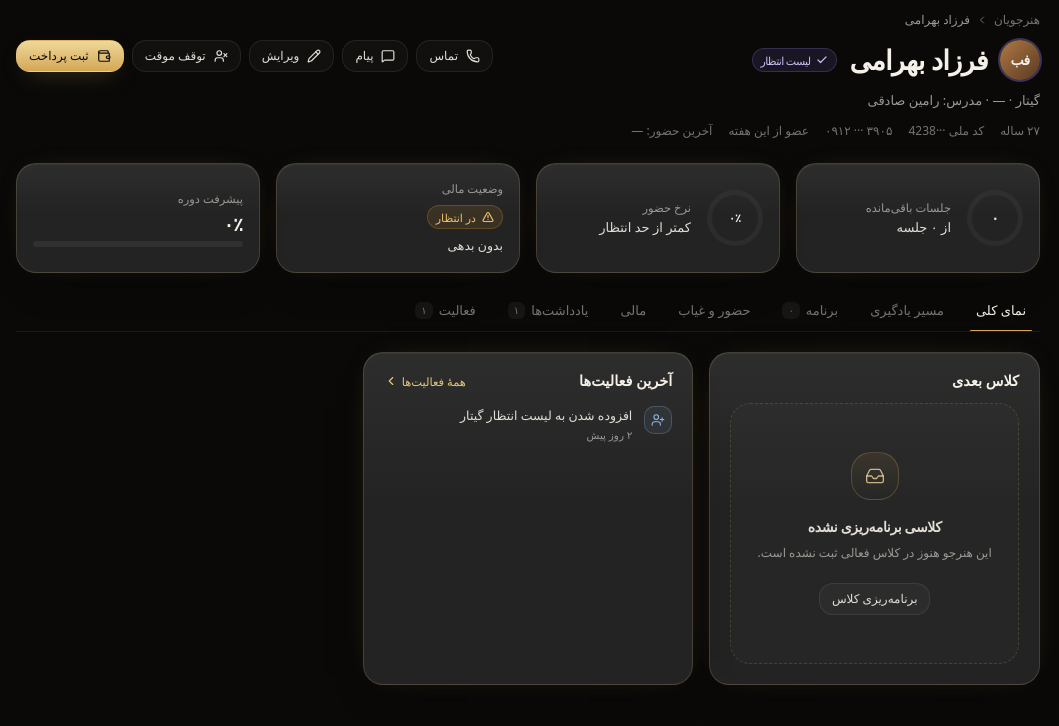
Test: class membership › reads the enrollment's own status: a waitlisted student is not a member
The width and height of the screenshot is (1059, 726).
What coordinates should you click on to do the following:
click the tab "برنامه ۰"
I would click on:
 (810, 314)
Its box is [768,297,852,331].
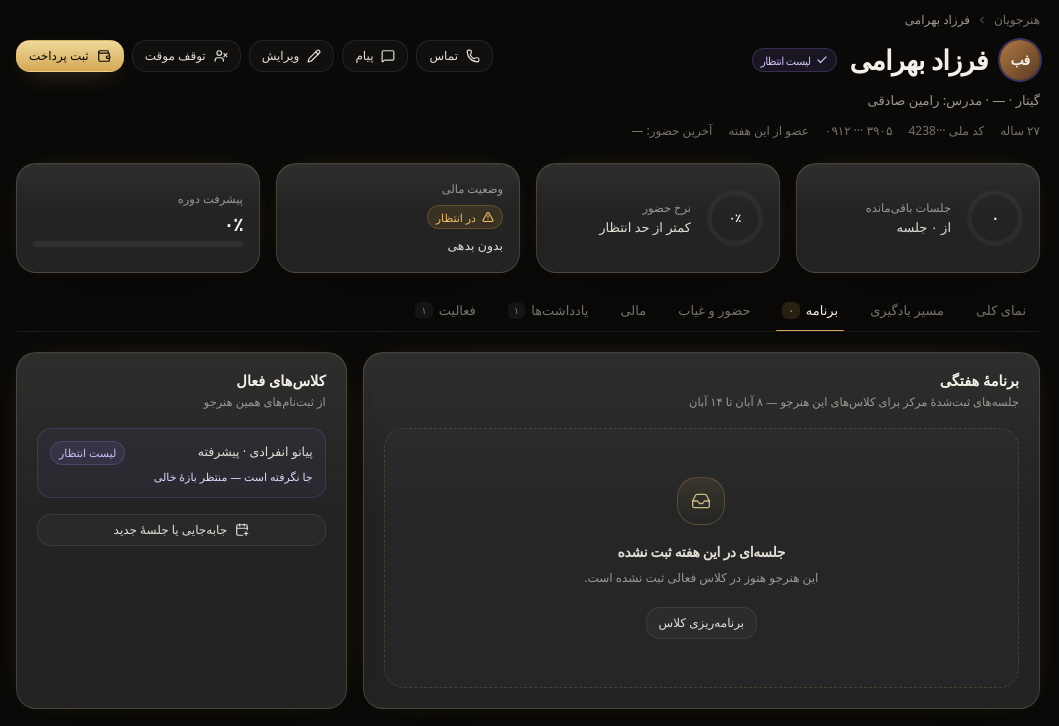
Expected: the text "لیست انتظار" is shown, [752,48,837,72]
Result: the text "پیانو انفرادی · پیشرفته" is shown at [198,443,313,462]
Result: the text "جا نگرفته است" is shown at [154,469,313,484]
